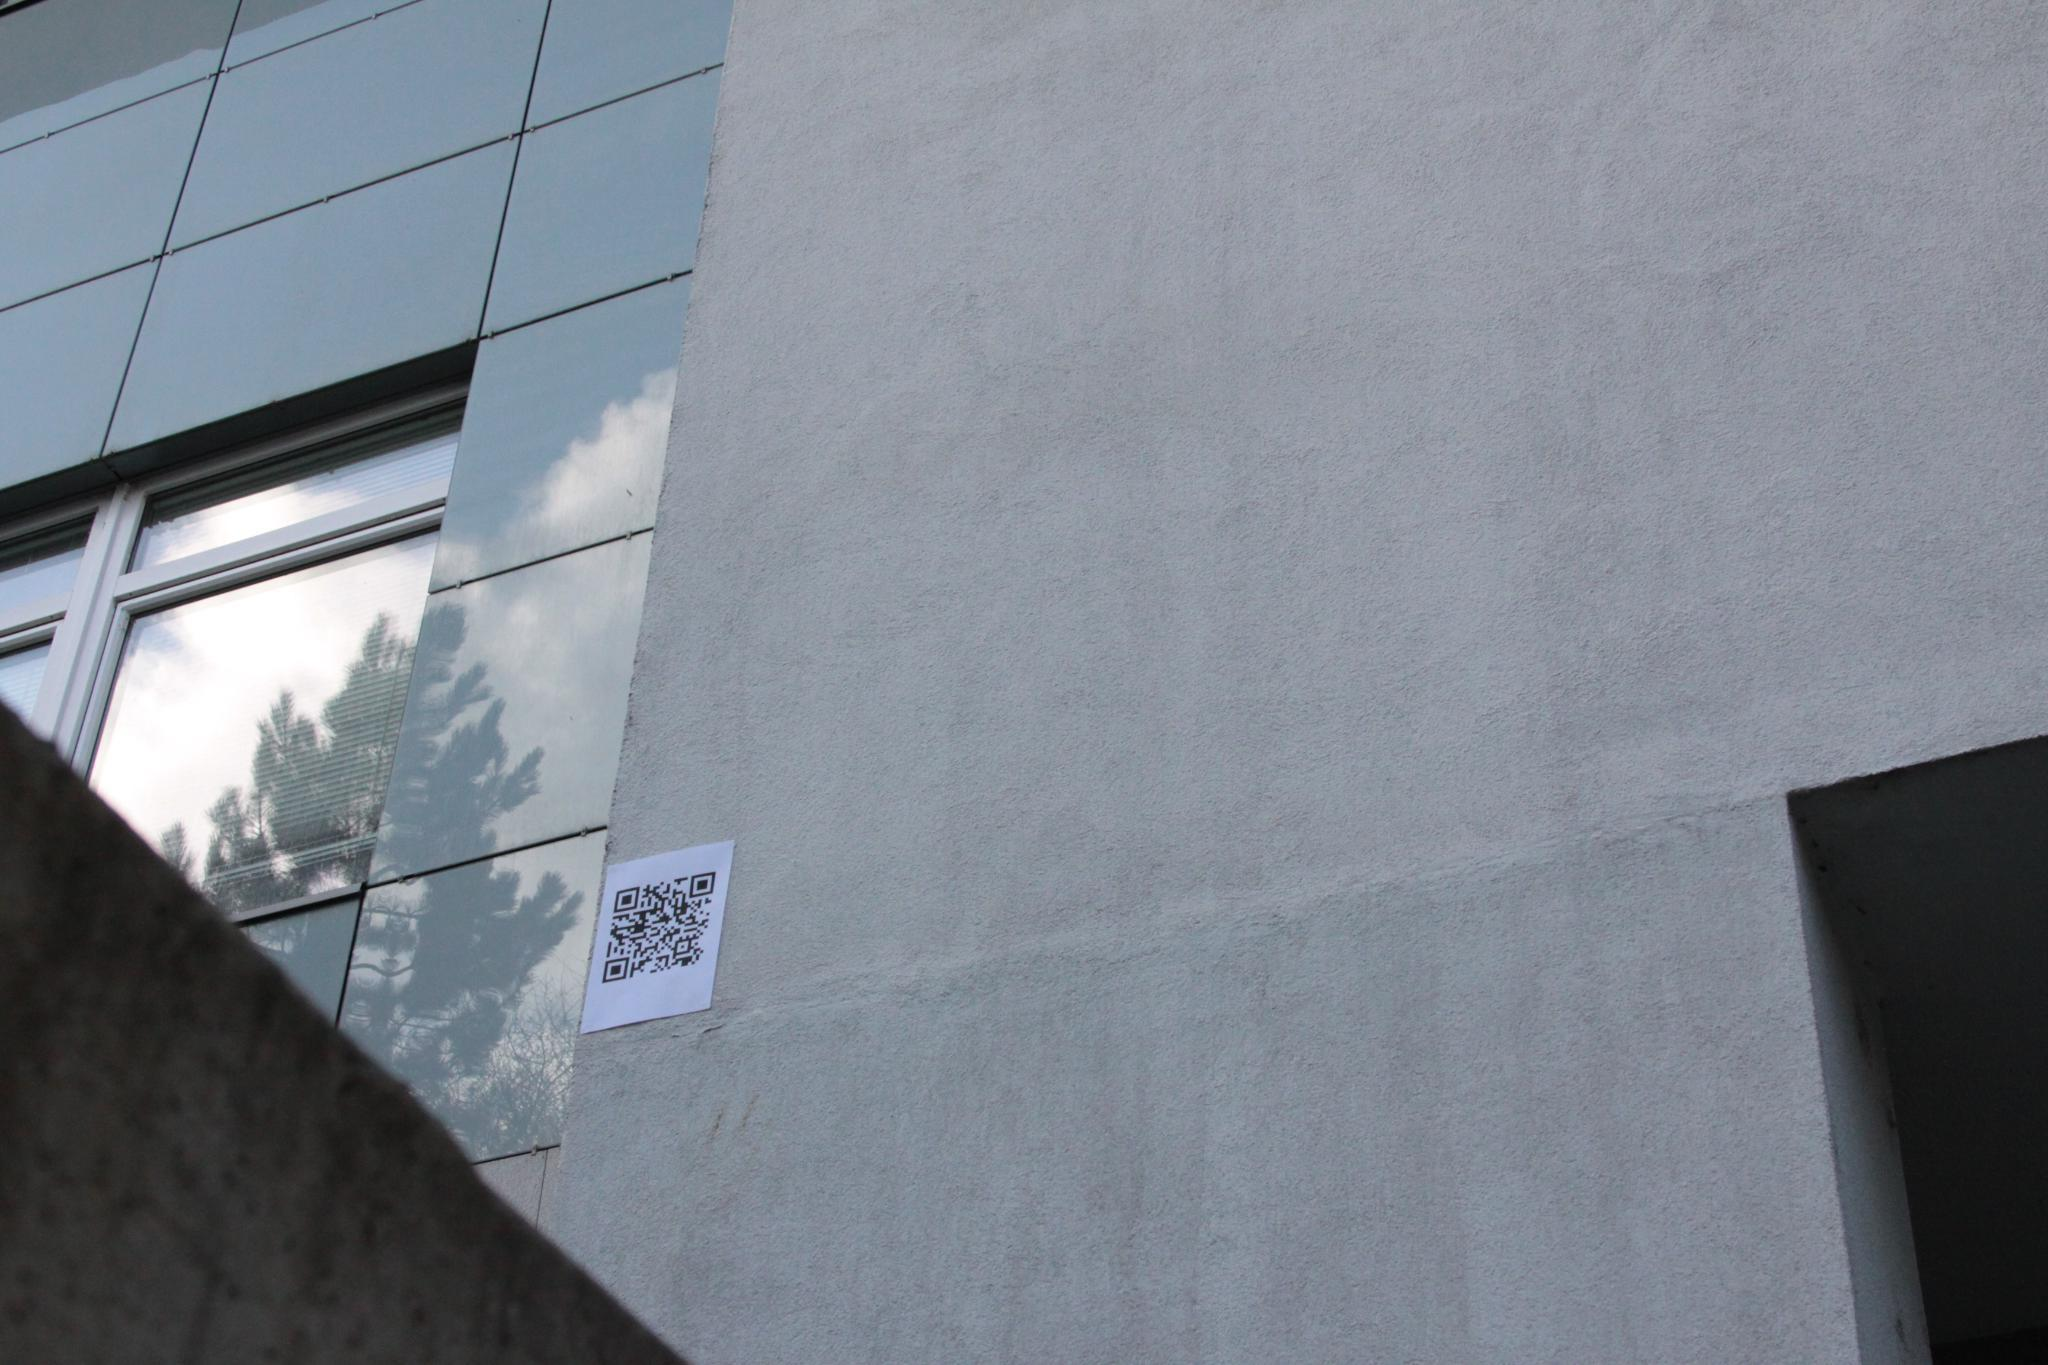Finder pattern: (598, 957, 633, 987), (685, 871, 722, 900), (611, 887, 643, 916)
